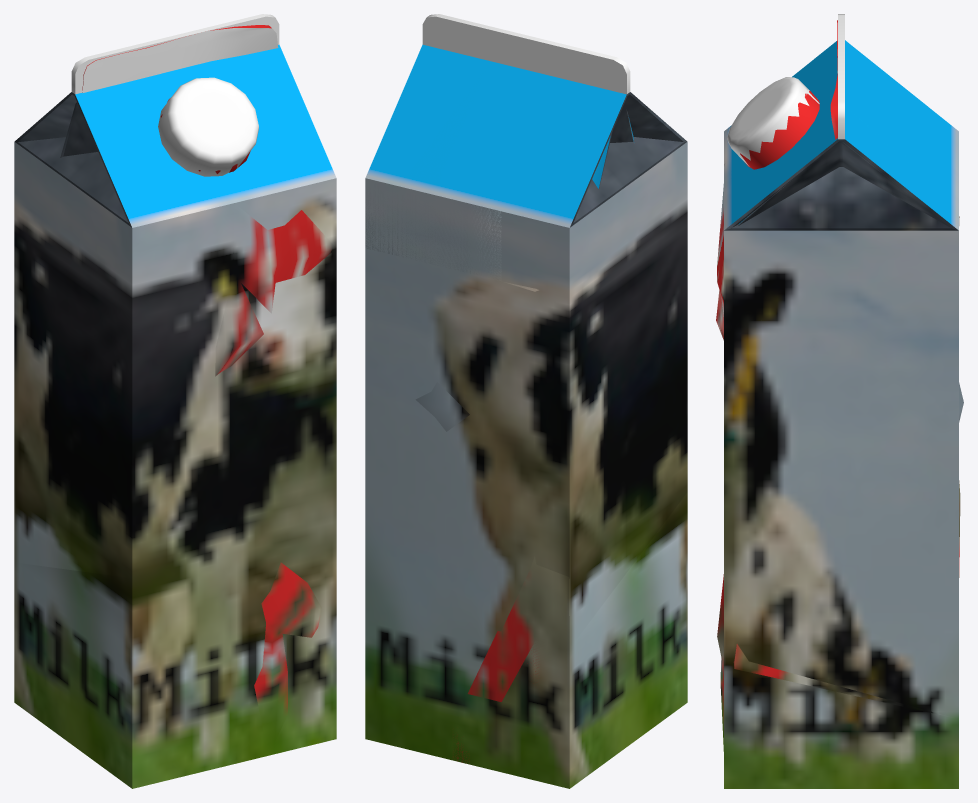
The model's file is milkCarton.glb.
3 renders of one model, left to right at view 1: azimuth 30°, elevation 25°; view 2: azimuth 150°, elevation 25°; view 3: azimuth 270°, elevation 25°, orthographic.
Visible parts, largest first — view 1: MeshGood, MeshBad; view 2: MeshGood, MeshBad; view 3: MeshGood, MeshBad.
Boxes of the visible parts, left/top/right/bottom form: MeshGood: left=14, top=14, right=336, bottom=788; MeshBad: left=14, top=25, right=336, bottom=780; MeshGood: left=365, top=14, right=687, bottom=788; MeshBad: left=365, top=71, right=687, bottom=788; MeshGood: left=724, top=14, right=958, bottom=788; MeshBad: left=716, top=20, right=963, bottom=751.
Bounding box in the file's own units: 0.0703 × 0.224 × 0.0739.
2 materials, 2 textured.
